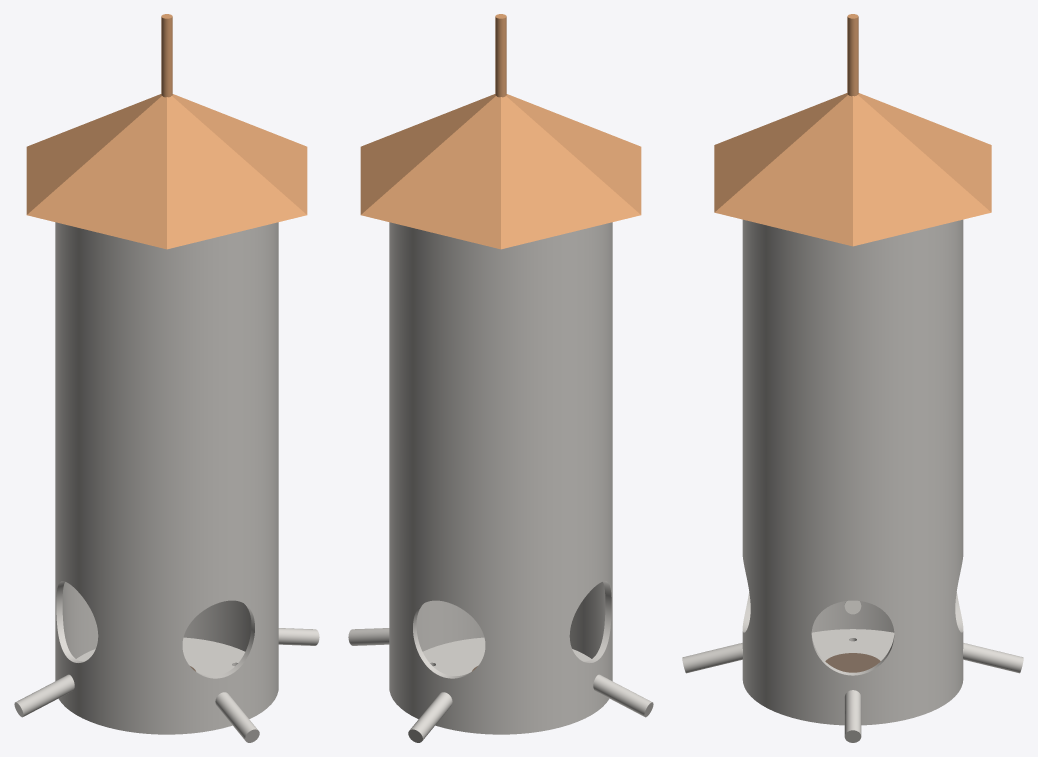
The model's file is easternUsSongbirds.gltf.
3 views of the same model, side by side, from view 1: azimuth 30°, elevation 25°; view 2: azimuth 150°, elevation 25°; view 3: azimuth 270°, elevation 25° (orthographic).
Size of the model in its own units: 0.1238 by 0.272 by 0.1238.
